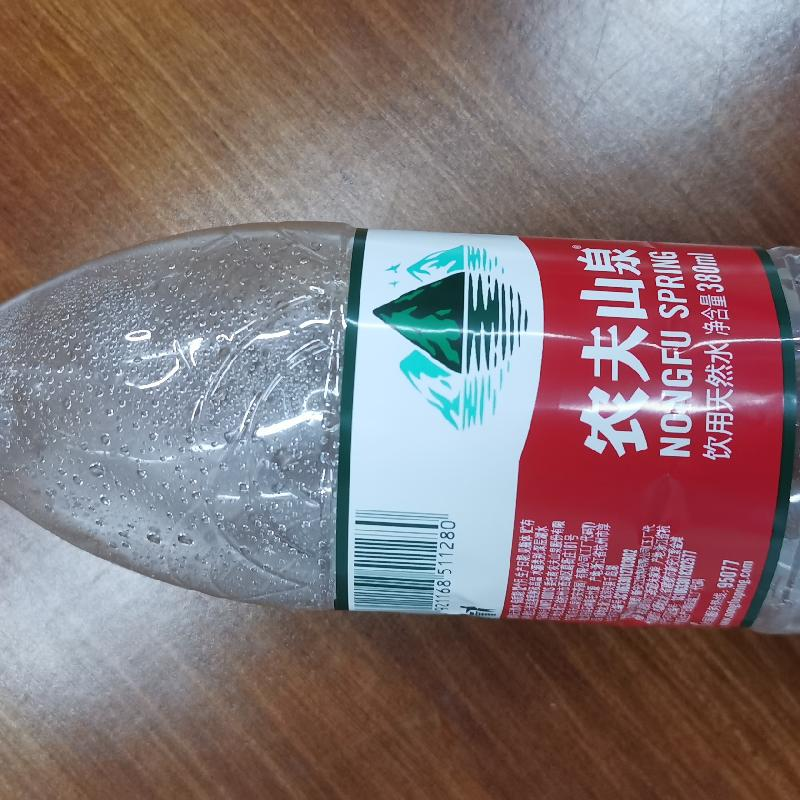bottles: (3, 213, 799, 645)
